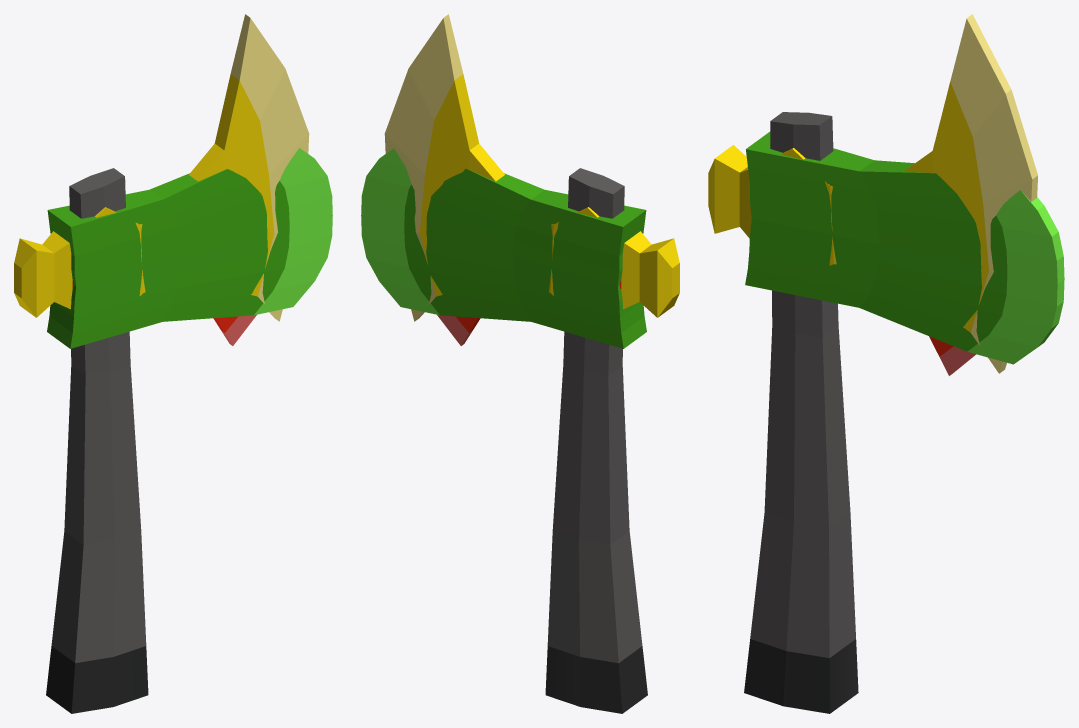
Rendered from Balta3tane.fbx.
3 views of the same model, side by side, from view 1: azimuth 30°, elevation 25°; view 2: azimuth 150°, elevation 25°; view 3: azimuth 330°, elevation 25° (orthographic). The views are drawn at different scales.
Visible parts, largest first — view 1: Balta1, Balta3, Balta2; view 2: Balta1, Balta3, Balta2; view 3: Balta1, Balta3, Balta2.
Boxes of the visible parts, x1=… form: Balta1: x1=46, y1=148, x2=332, y2=713; Balta3: x1=14, y1=14, x2=309, y2=707; Balta2: x1=46, y1=281, x2=256, y2=712; Balta1: x1=361, y1=148, x2=647, y2=713; Balta3: x1=384, y1=14, x2=679, y2=531; Balta2: x1=437, y1=281, x2=646, y2=686; Balta1: x1=744, y1=112, x2=1064, y2=713; Balta3: x1=708, y1=14, x2=1037, y2=693; Balta2: x1=744, y1=330, x2=975, y2=704.
Bounding box in the file's own units: 0.6977 × 1.37 × 0.1256.
Materials: 1 (1 with a texture image).
